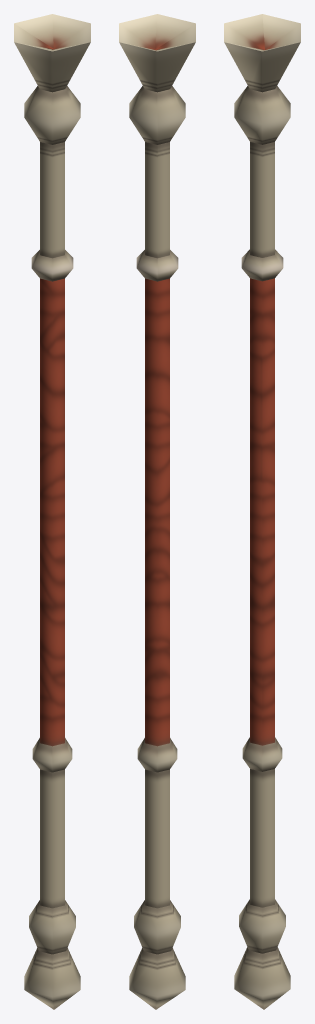
Rendered from SimpleStaff.fbx.
The picture shows the model from 3 angles, left to right: view 1: azimuth 30°, elevation 25°; view 2: azimuth 150°, elevation 25°; view 3: azimuth 330°, elevation 25°; orthographic projection.
Parts seen in each view (by area): view 1: pCylinder1; view 2: pCylinder1; view 3: pCylinder1.
Part boxes in pixels (left/top/right/bottom): pCylinder1: left=14, top=14, right=90, bottom=1009; pCylinder1: left=119, top=14, right=195, bottom=1009; pCylinder1: left=224, top=14, right=300, bottom=1009.
Bounding box in the file's own units: 4.51 × 54.78 × 3.91.
Materials: 1 (1 with a texture image).
